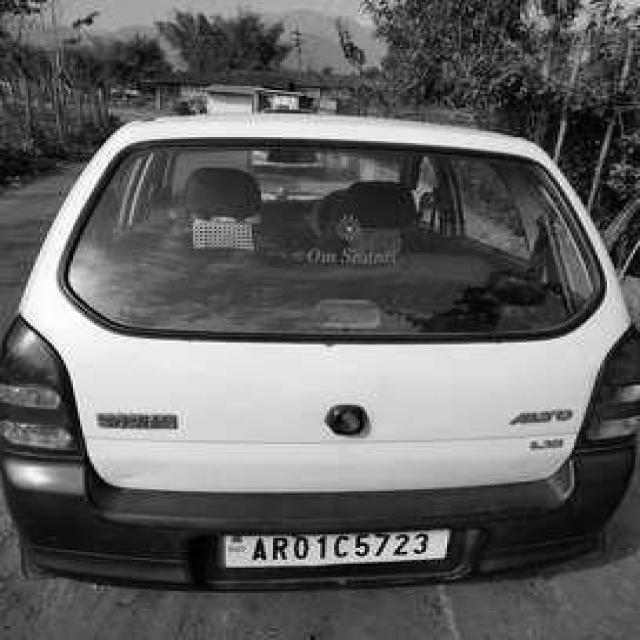car: (0, 94, 640, 581)
license-plate: (221, 526, 452, 576)
